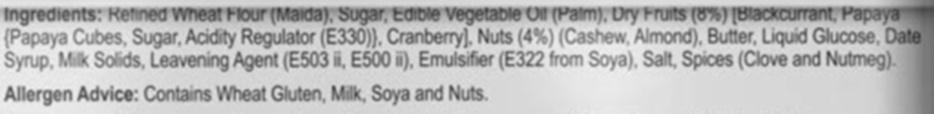ingredients: (0, 0, 934, 114)
